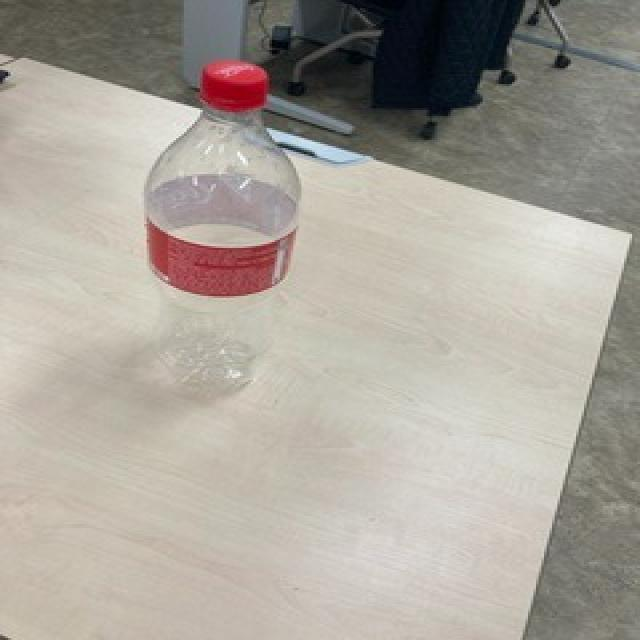good: (138, 53, 306, 411)
